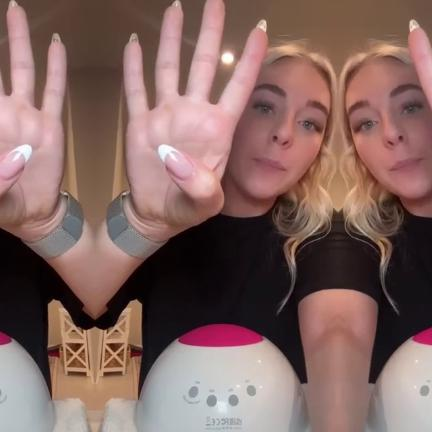Nail: (157, 144, 193, 180), (0, 144, 31, 180)
